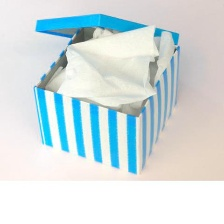book: (27, 7, 186, 179)
tissue: (52, 20, 164, 112)
